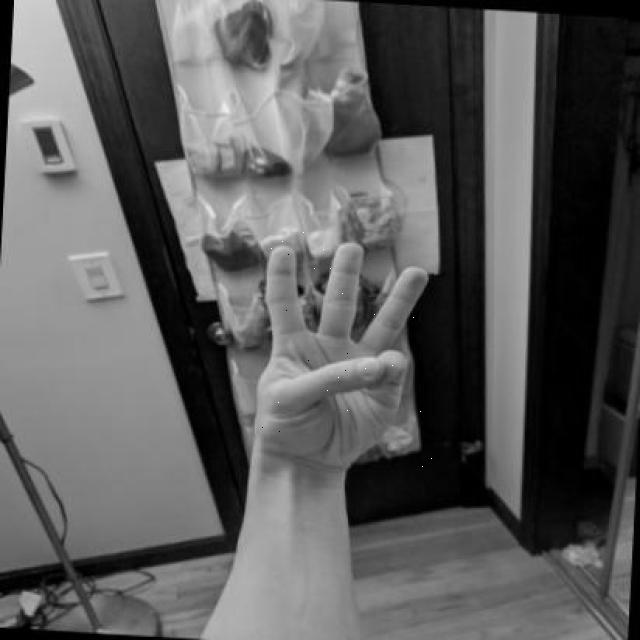W: (242, 232, 434, 476)
